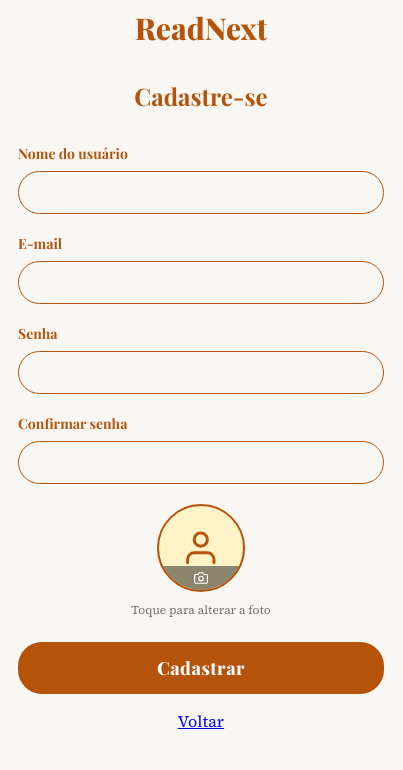
Página de Cadastro — Validações › exibe erro quando senhas não coincidem
Type "Ana Clara" into the field below "Nome do usuário" at coordinates (201, 192), box [18,171,384,214]
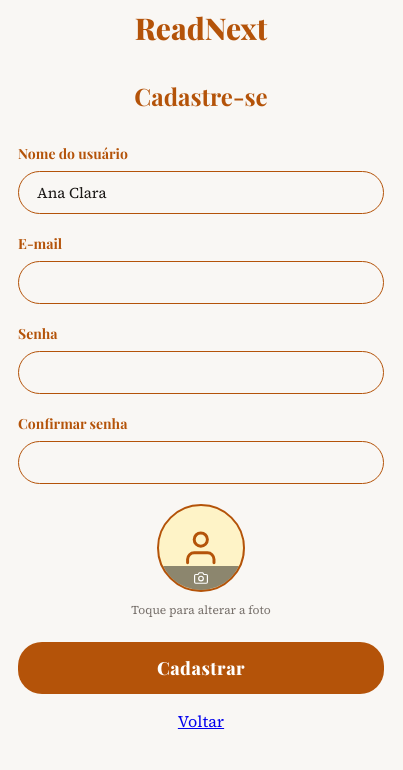
Type "ana@email.com" into the field below "E-mail" at coordinates (201, 282), box [18,261,384,304]
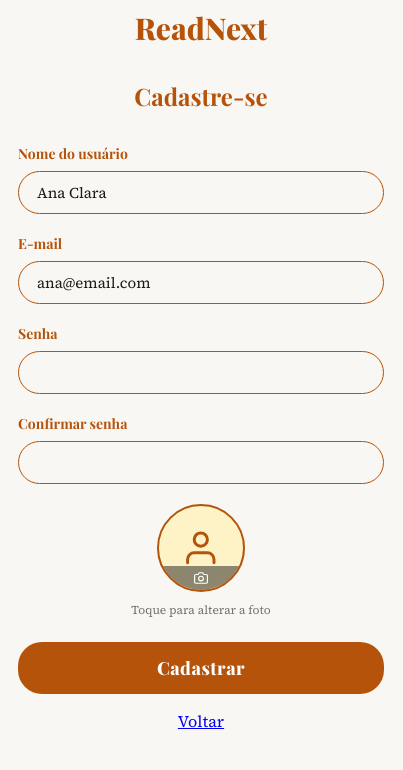
Type "senha123" into the 1st password field at coordinates (201, 372), box [18,351,384,394]
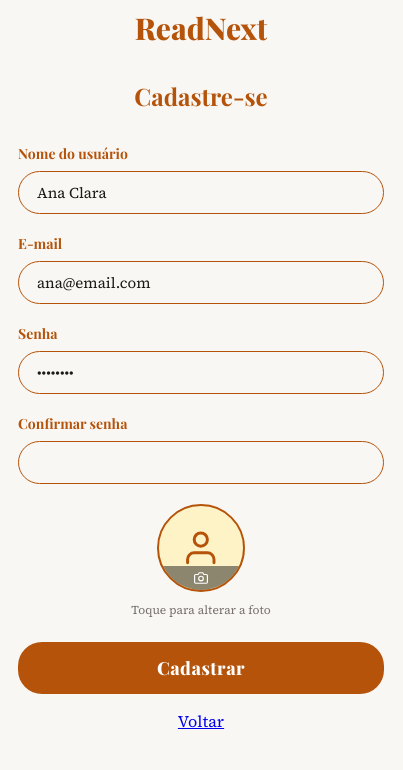
Type "senhadiferente" into the password field below "Confirmar senha" at coordinates (201, 462), box [18,441,384,484]
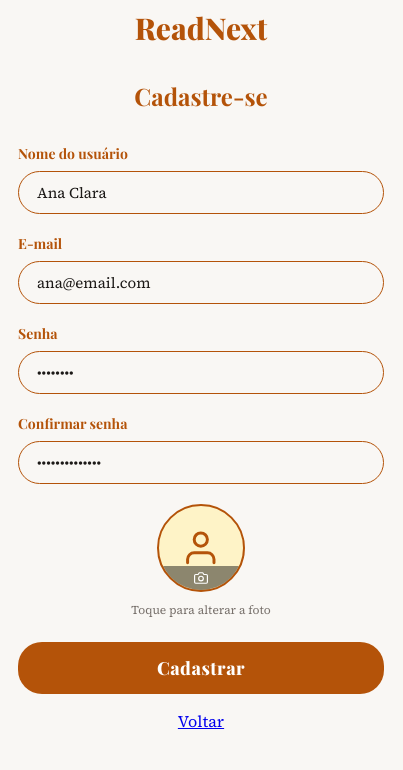
Click the button "Cadastrar" at coordinates (201, 668), box [18,642,384,694]
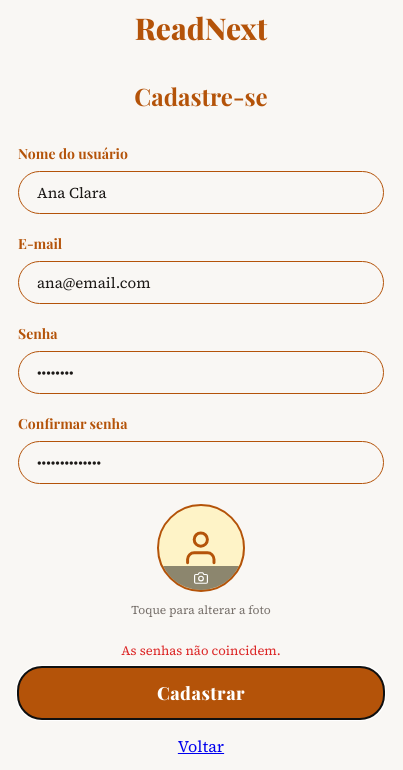
Expected: the text "As senhas não coincidem." is shown, [121,642,281,659]
